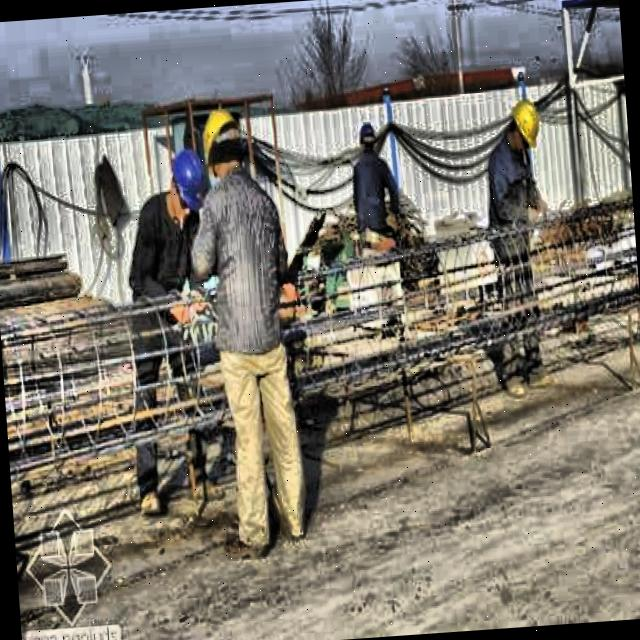helmet: (162, 140, 214, 219), (196, 104, 247, 180), (502, 95, 545, 159), (358, 117, 380, 158)
